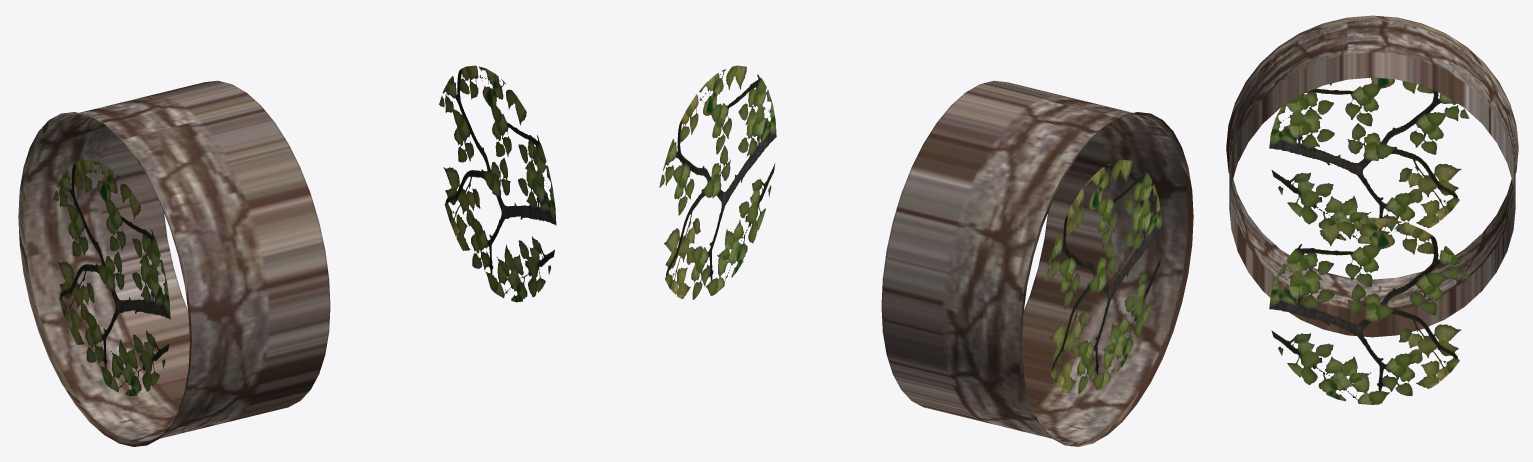
File: pipe_b_micr.FBX
3 renders of one model, left to right at view 1: azimuth 30°, elevation 25°; view 2: azimuth 150°, elevation 25°; view 3: azimuth 270°, elevation 25°, orthographic. The views are drawn at different scales.
Parts seen in each view (by area): view 1: pipe_b_micr; view 2: pipe_b_micr; view 3: pipe_b_micr.
Part boxes in pixels (x1=…): pipe_b_micr: x1=18, y1=65, x2=556, y2=446; pipe_b_micr: x1=659, y1=65, x2=1193, y2=446; pipe_b_micr: x1=1226, y1=15, x2=1518, y2=404.
Size of the model in its own units: 2.1 by 1.48 by 1.48.
